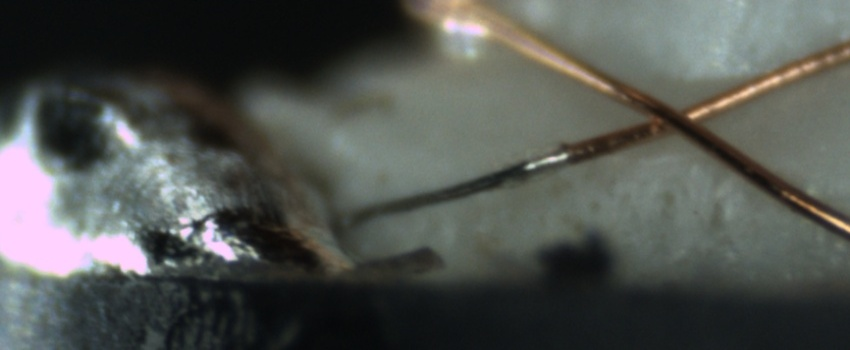CL: (619, 83, 724, 147)
TS: (339, 150, 571, 229)
TTCW: (331, 136, 616, 229)
